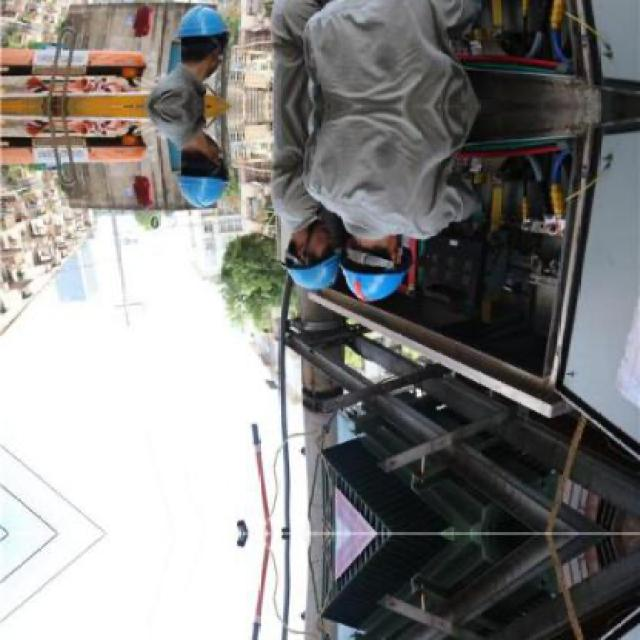con casco: (245, 195, 374, 356), (326, 221, 414, 321)
